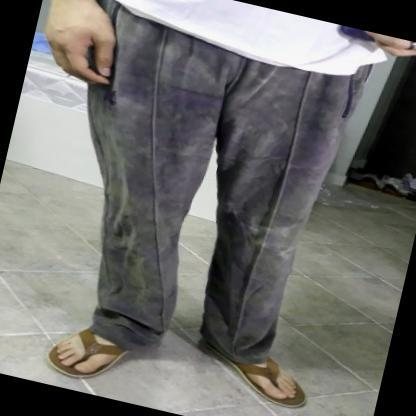no_safety-shoe: (15, 302, 156, 403), (189, 339, 332, 415)
